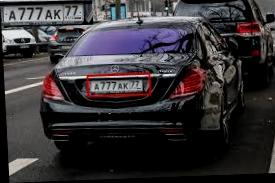License_Plate: (88, 75, 143, 92)
